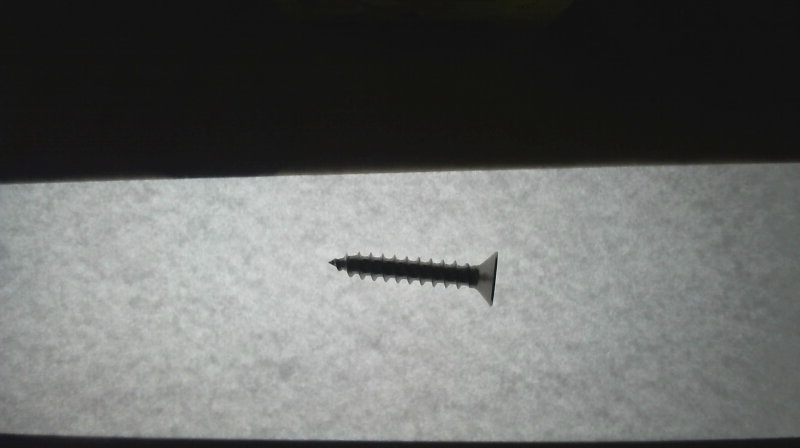S001: (323, 246, 501, 309)
